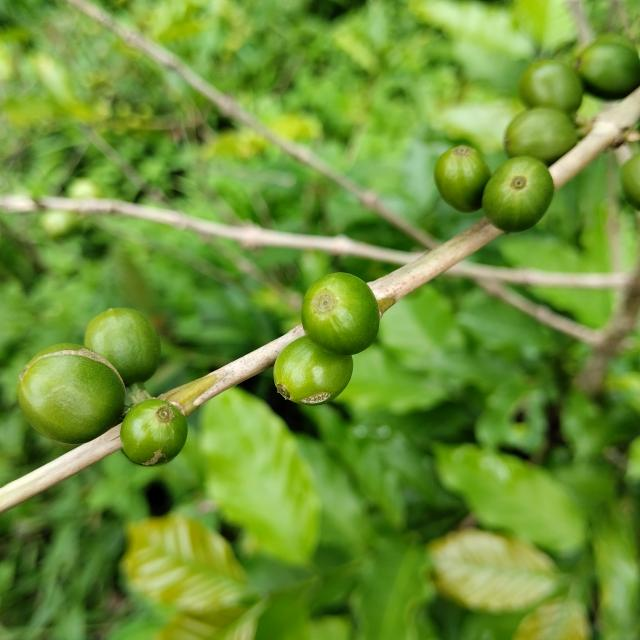green: (16, 344, 125, 444), (302, 272, 380, 356), (84, 308, 160, 386), (482, 156, 555, 232), (273, 337, 353, 405), (119, 399, 187, 466), (505, 106, 578, 164), (435, 145, 491, 212), (520, 59, 584, 113)
